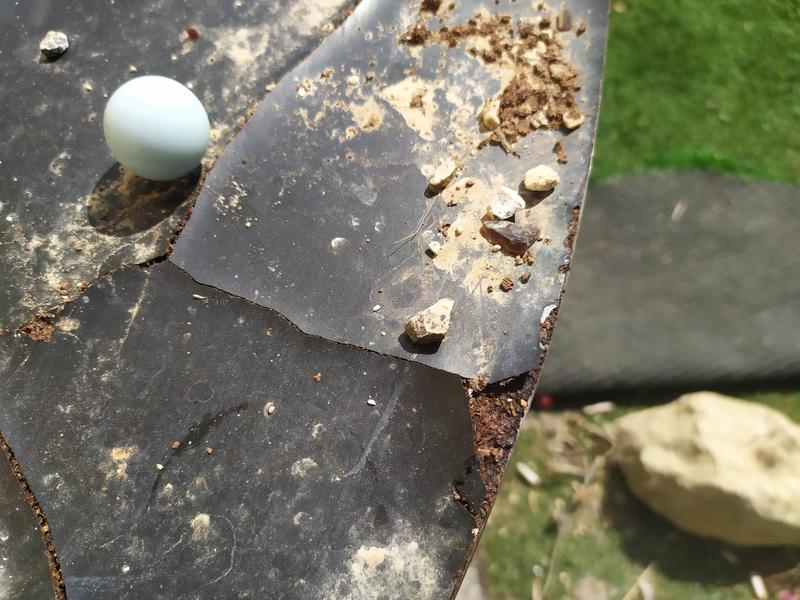Warning: (100, 72, 214, 184)
